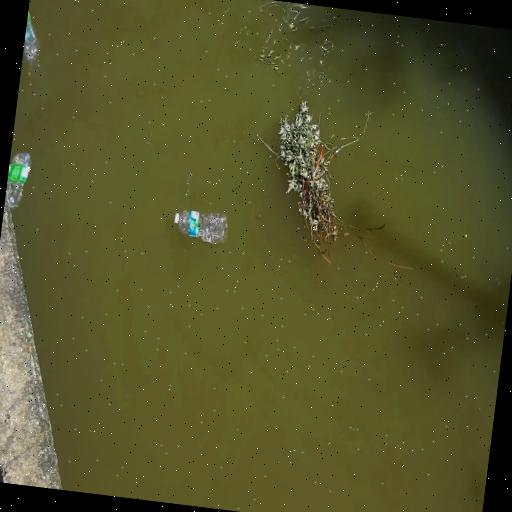plastic: (174, 211, 226, 244), (6, 153, 30, 210), (23, 13, 38, 70)
twig: (278, 101, 362, 260)
